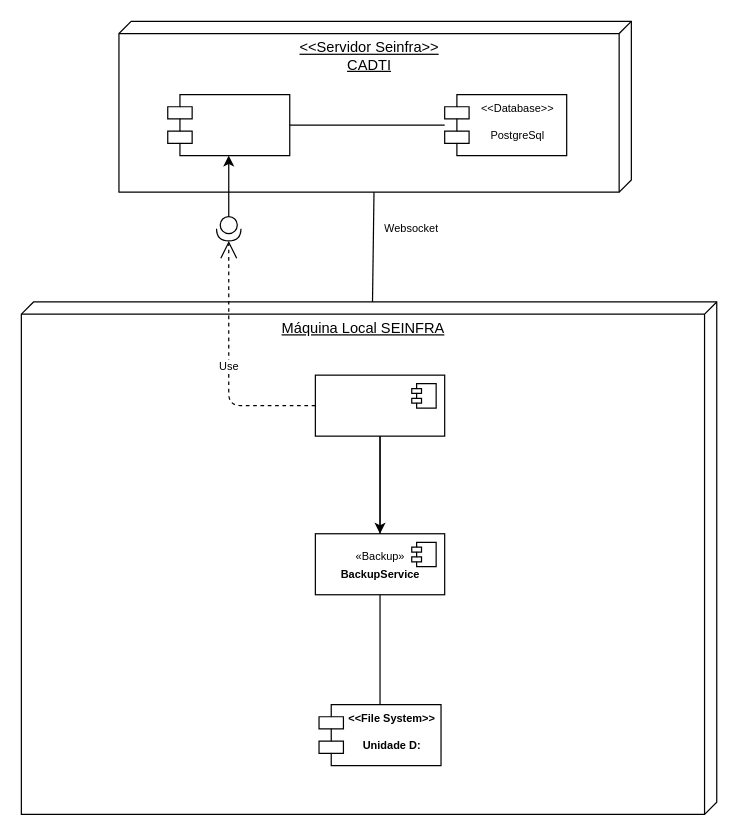
This 738x836 diagram has some shape labels left out. Each missing label, with the centre of its shape:
<<Controller>> Controller: (x=379, y=405)
CadTI API: (x=228, y=124)
